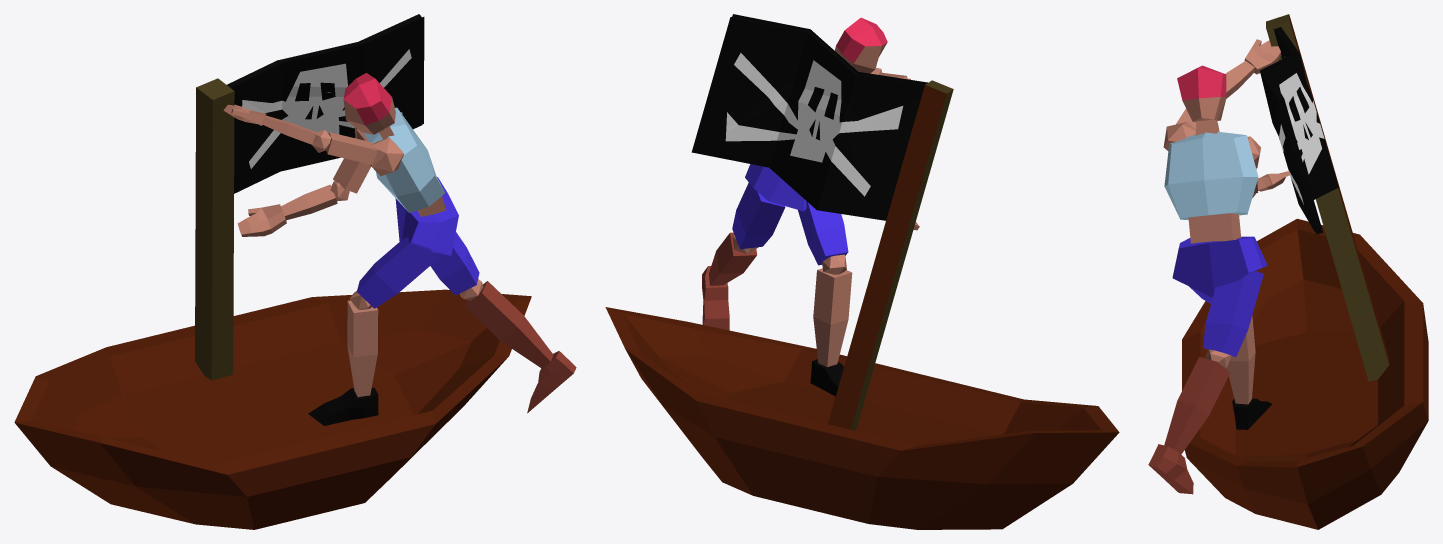
Rendered from pirata.fbx.
The picture shows the model from 3 angles, left to right: view 1: azimuth 30°, elevation 25°; view 2: azimuth 150°, elevation 25°; view 3: azimuth 270°, elevation 25°; orthographic projection.
Visible parts, largest first — view 1: Vehiculo3, pirata; view 2: Vehiculo3, pirata; view 3: Vehiculo3, pirata.
Boxes of the visible parts, x1,y1,x2,y2 form: Vehiculo3: (14,14,531,529); pirata: (223,73,576,425); Vehiculo3: (605,14,1119,529); pirata: (702,17,919,396); Vehiculo3: (1182,14,1428,529); pirata: (1148,39,1289,494).
Bounding box in the file's own units: 6.14 × 5.06 × 2.93.
